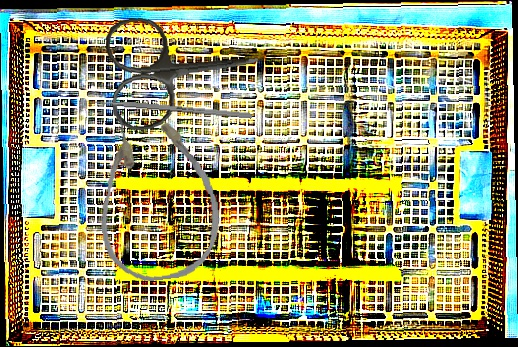Cannula: (88, 107, 227, 287)
Iris Scissors: (103, 5, 265, 133)
Pusher: (77, 97, 252, 119)
